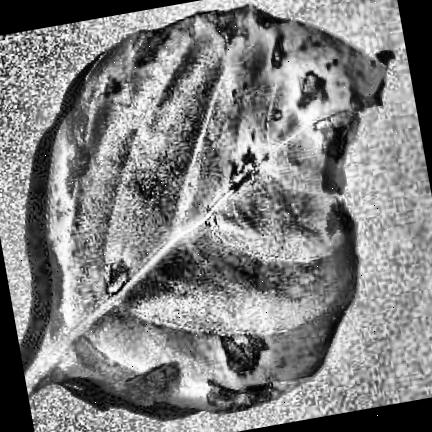leaf: (24, 5, 393, 410)
